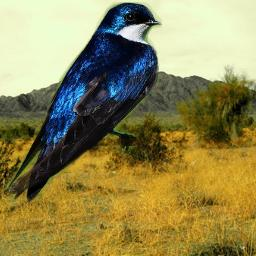Swallow: (5, 2, 162, 203)
